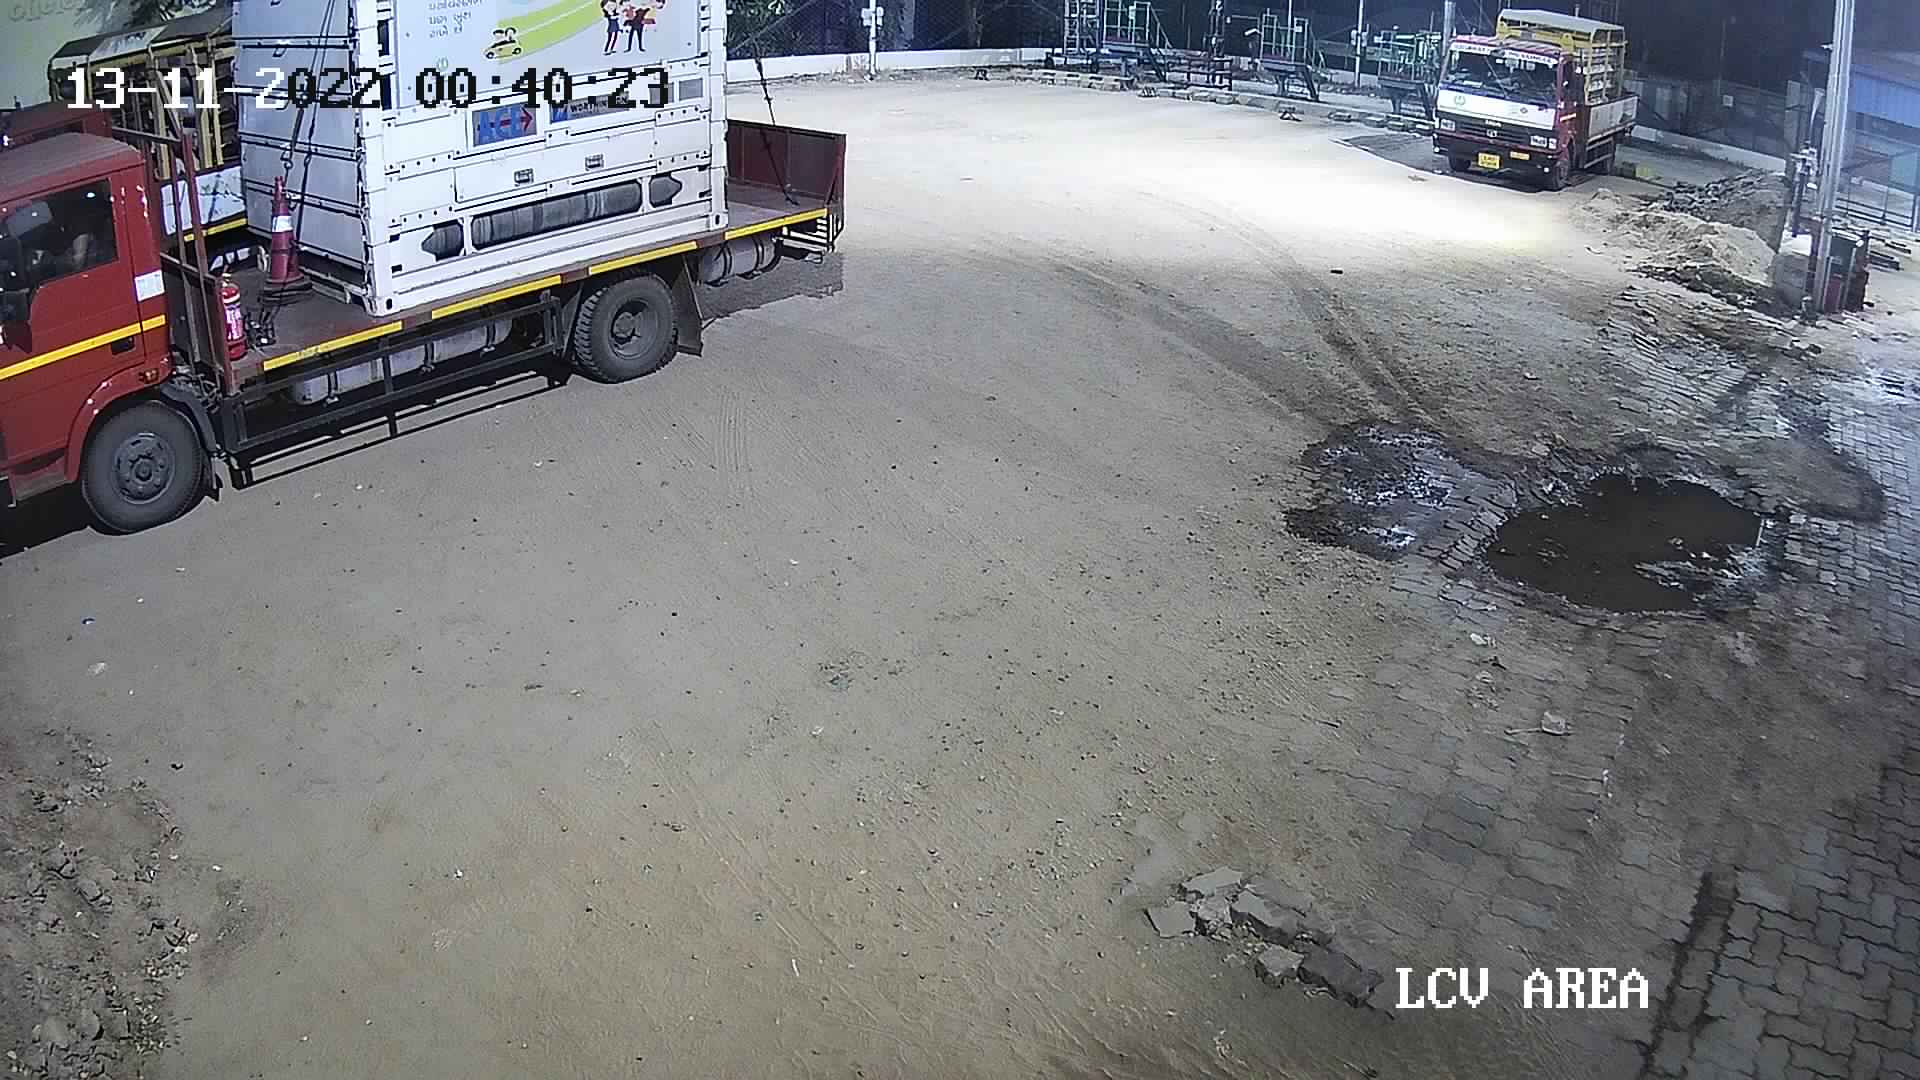HMV: (5, 0, 855, 556), (3, 3, 270, 291), (1418, 0, 1644, 194)
